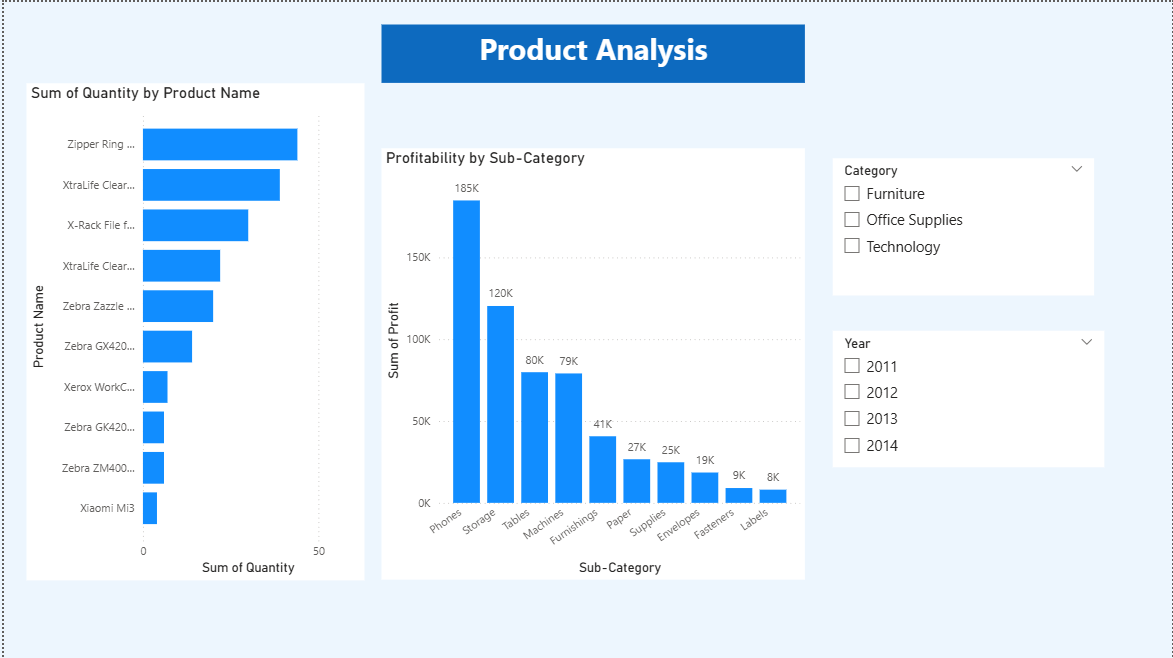

This screenshot's page, from the dashboard's own definition file:
{"tool":"powerbi","page":{"name":"Product Analysis","canvas":[1280,720],"ordinal":2},"visuals":[{"type":"barChart","fields":{"Category":["cleaned_superstore.Product Name"],"Y":["Sum(cleaned_superstore.Quantity)"]},"box":[24.2,88.4,370.6,544.5],"z":0},{"type":"columnChart","title":"Profitability by Sub-Category","fields":{"Category":["cleaned_superstore.Sub-Category"],"Y":["Sum(cleaned_superstore.Profit)"]},"box":[413.7,160.3,464.4,472.6],"z":1000},{"type":"textbox","box":[413.7,24.7,464.4,64.4],"z":2000},{"type":"slicer","fields":{"Values":["cleaned_superstore.Order Date.Variation.Date Hierarchy.Year"]},"box":[908.2,360.3,297.3,149.3],"z":2001},{"type":"slicer","fields":{"Values":["cleaned_superstore.Category"]},"box":[908.2,171.2,286.3,150.7],"z":2002}]}

Visuals, with their boxes in screenshot pixels (x1, y1, x2, y2), scaled from the page's 1280x720 canvas onto the 1173x658 screenshot:
barChart - cleaned_superstore.Product Name x Sum(cleaned_superstore.Quantity): x1=22 y1=81 x2=362 y2=578
"Profitability by Sub-Category" columnChart: x1=379 y1=146 x2=805 y2=578
textbox: x1=379 y1=23 x2=805 y2=81
slicer - cleaned_superstore.Order Date.Variation.Date Hierarchy.Year: x1=832 y1=329 x2=1105 y2=466
slicer - cleaned_superstore.Category: x1=832 y1=156 x2=1095 y2=294
